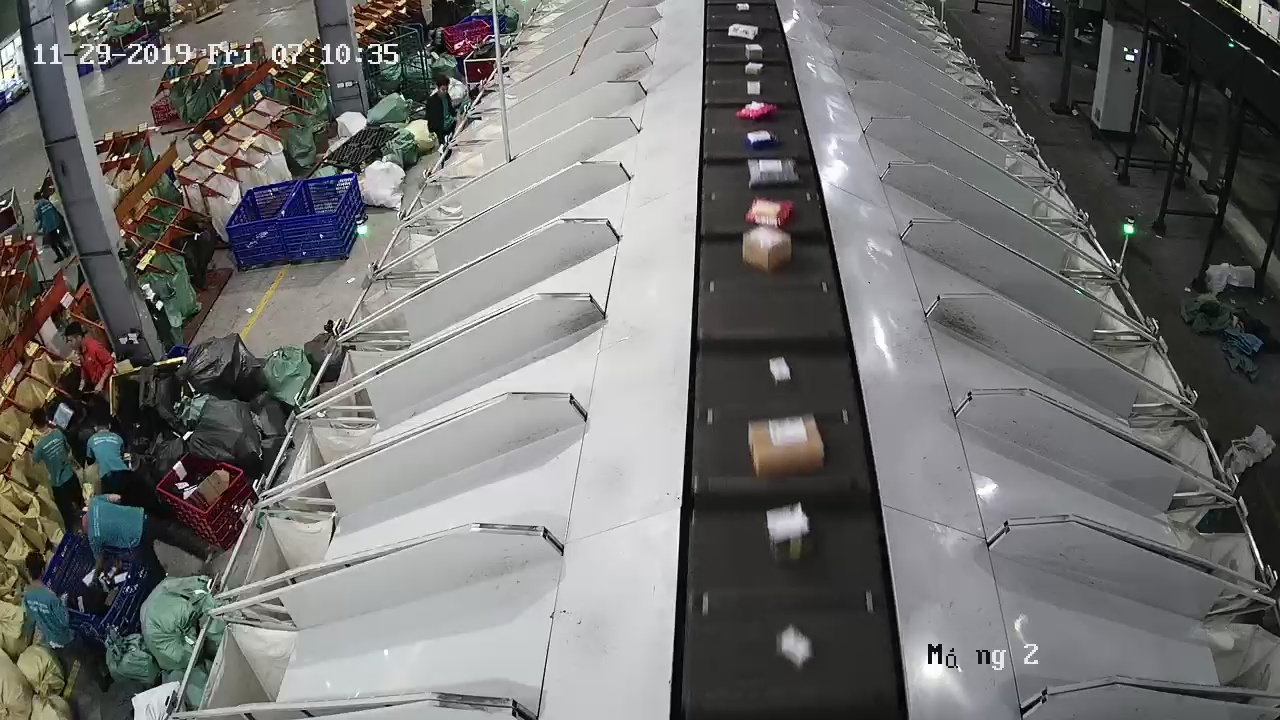parcel: (747, 413, 825, 480), (766, 502, 813, 565), (743, 226, 792, 274), (776, 624, 813, 672), (747, 157, 800, 190), (744, 196, 797, 227), (768, 355, 792, 386), (745, 128, 779, 149)
